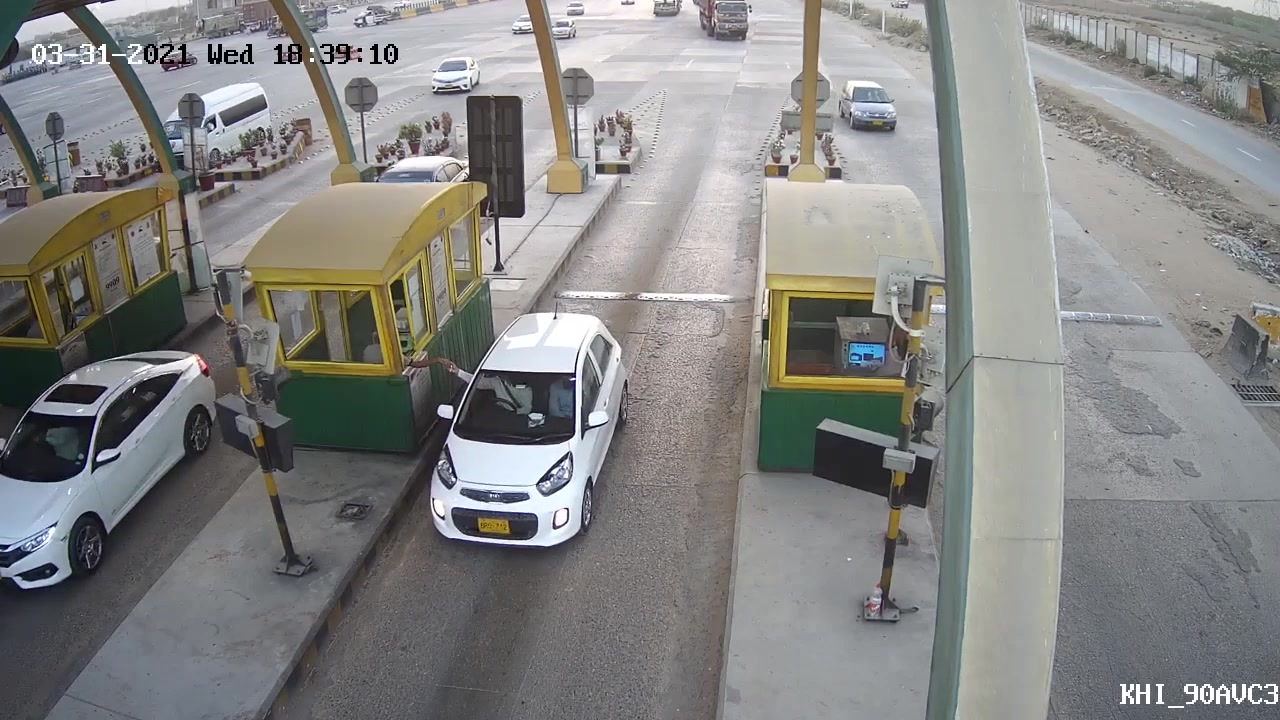F1: (417, 307, 631, 555)
